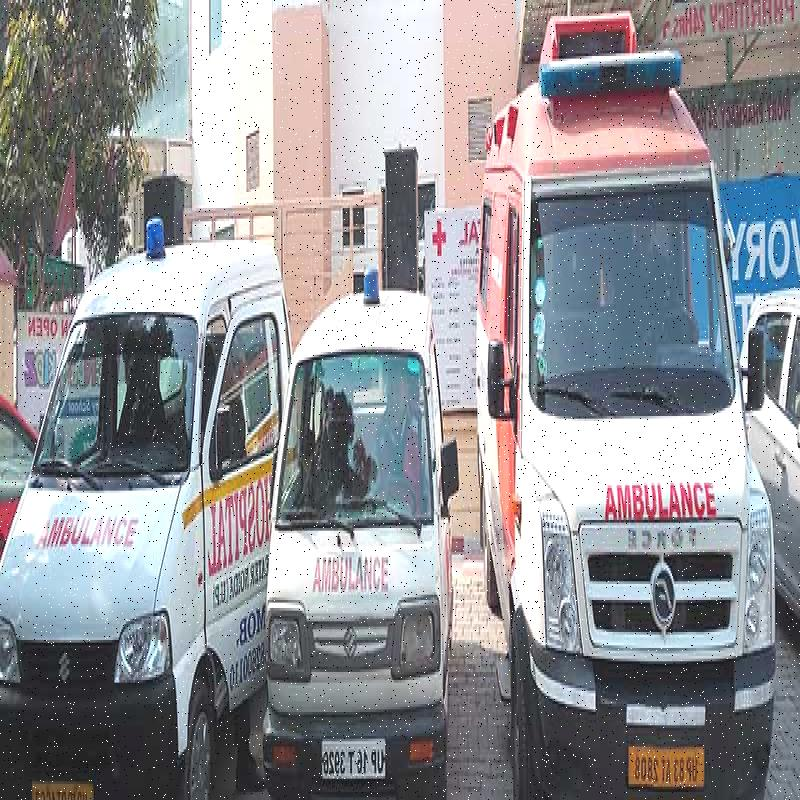ambulance: (488, 0, 764, 800), (0, 216, 285, 800), (258, 255, 447, 800)
